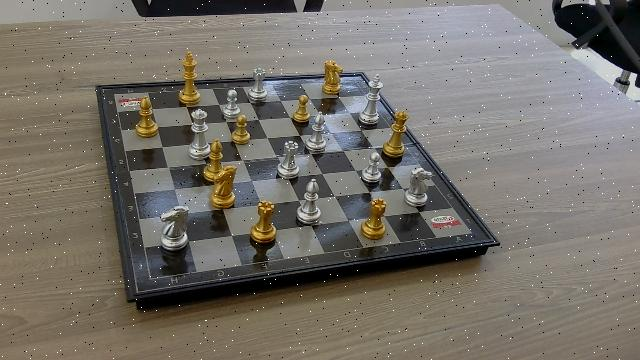black_bishop: (134, 94, 159, 138)
black_king: (179, 51, 200, 104)
black_knight: (207, 166, 236, 211), (321, 60, 344, 95)
black_pawn: (230, 114, 251, 146), (289, 94, 309, 125)
black_queen: (382, 107, 409, 158)
black_rook: (248, 201, 277, 245), (360, 198, 388, 241)
white_bishop: (297, 177, 322, 225), (309, 111, 328, 153)
white_king: (359, 71, 381, 124)
white_knight: (158, 204, 190, 251), (403, 167, 432, 208)
white_pawn: (362, 151, 383, 183), (221, 89, 239, 118)
white_queen: (189, 108, 208, 160)
white_rook: (275, 141, 301, 180), (248, 68, 267, 101)
